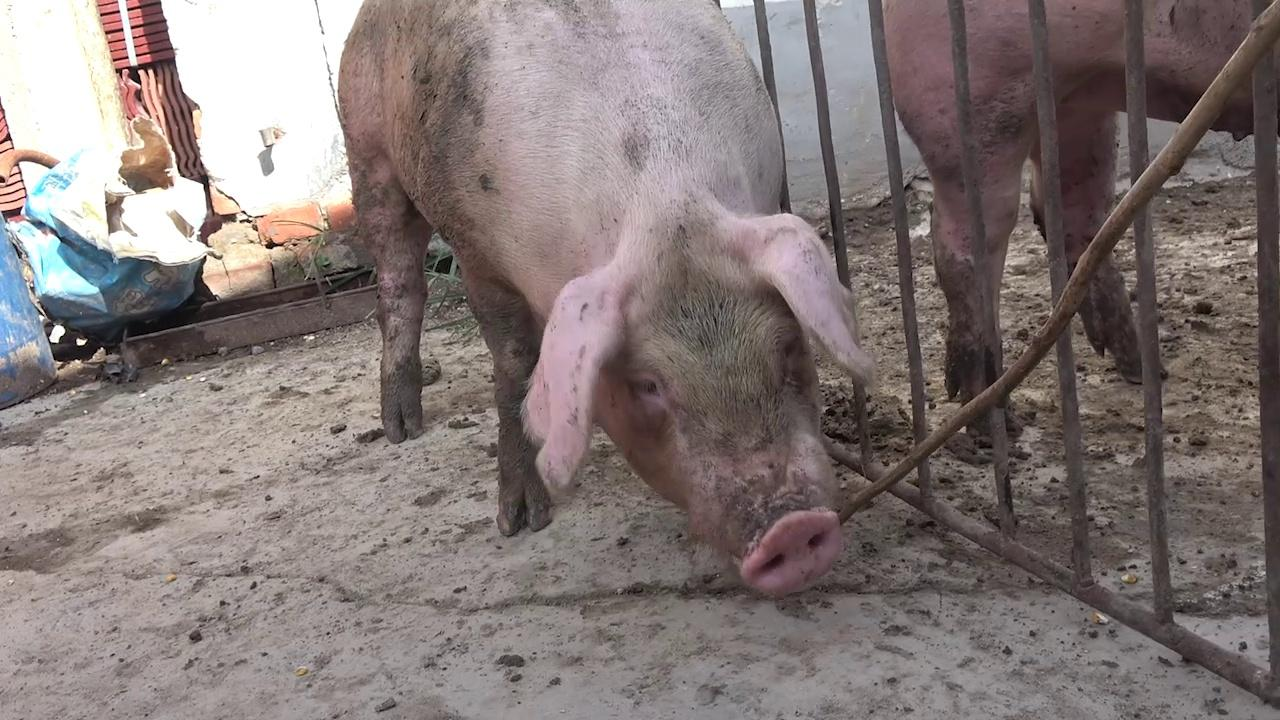Face: (513, 200, 886, 601)
